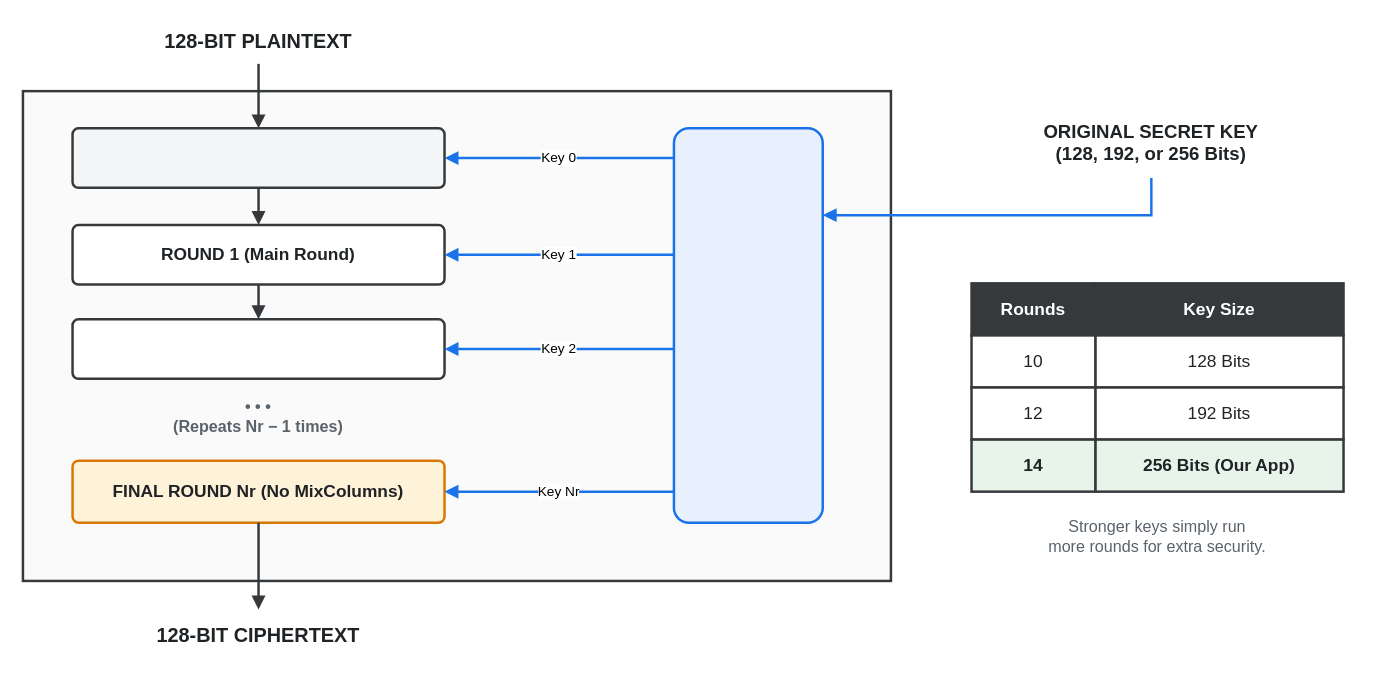
This 1376x677 diagram has some shape labels left out. The shapes that lost their labels are listed below. From the top down, each one's centre as x and y in pixels, then its label:
At point 258,157: "PRE-ROUND (AddRoundKey)".
At point 747,324: "KEY EXPANSION (Generates Round Keys)".
At point 258,348: "ROUND 2 (Main Round)".
